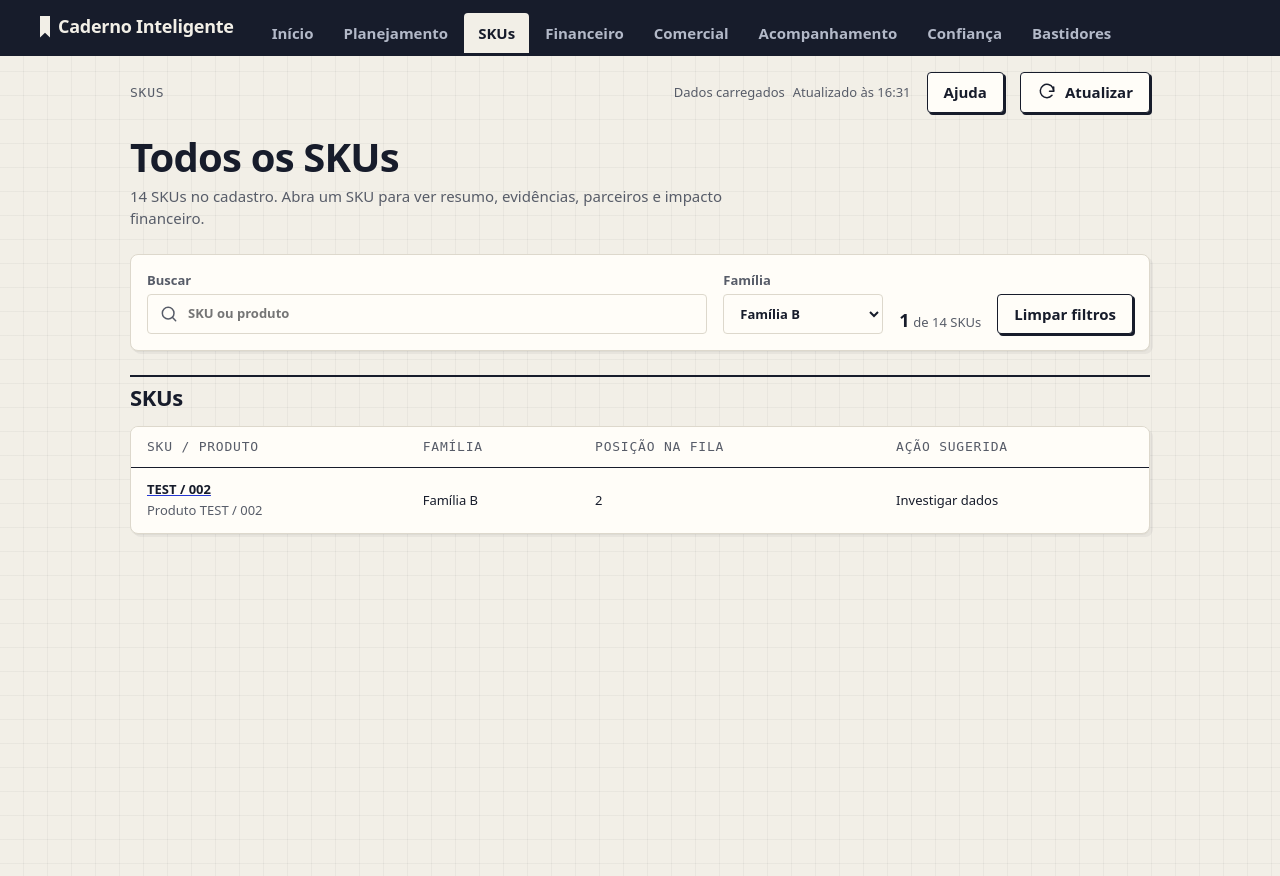
Lista de SKUs no menu › busca e família filtram pela URL, e a lista pagina de 10 em 10
This screenshot has width=1280, height=876.
Check: the text "TEST / 002" is shown, box left=147, top=480, right=211, bottom=498
Check: the number of rows is 2, box left=131, top=427, right=1149, bottom=467; left=131, top=467, right=1149, bottom=533
Click the button "Limpar filtros". click: (1065, 314)
box: left=997, top=294, right=1133, bottom=334
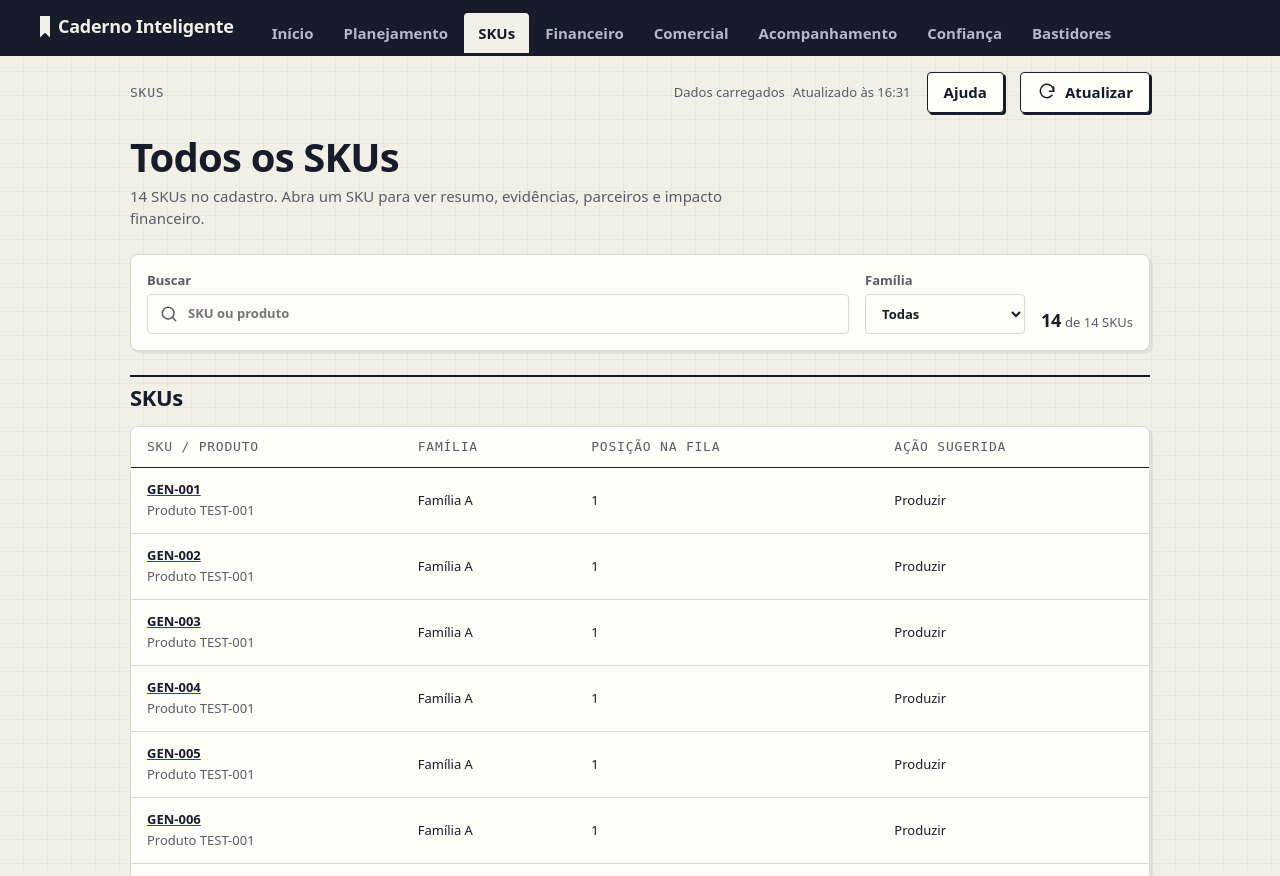
Type "GEN-012" into the field labelled "Buscar". click: (498, 314)
box: left=147, top=294, right=849, bottom=334
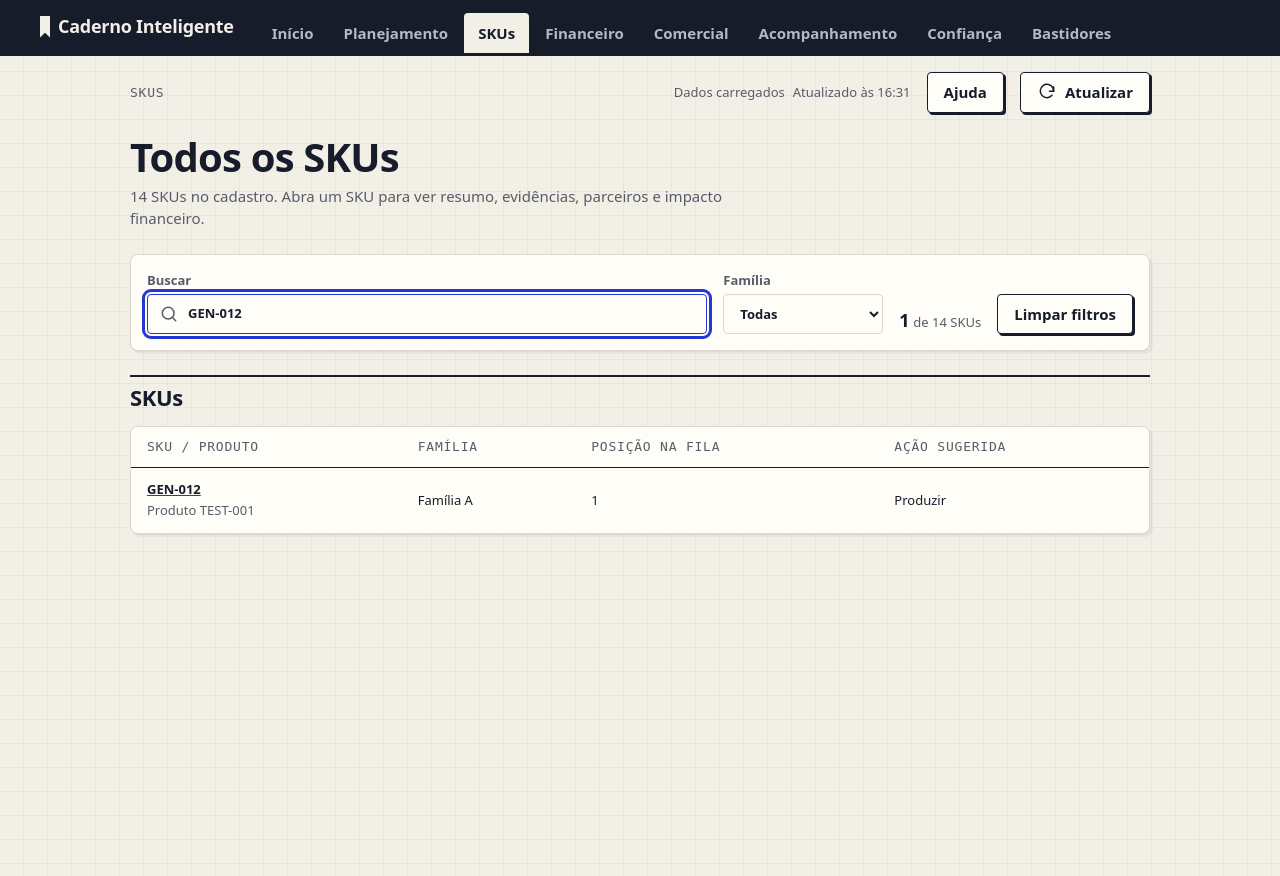
Check: the number of rows is 2, box left=131, top=427, right=1149, bottom=467; left=131, top=467, right=1149, bottom=533
